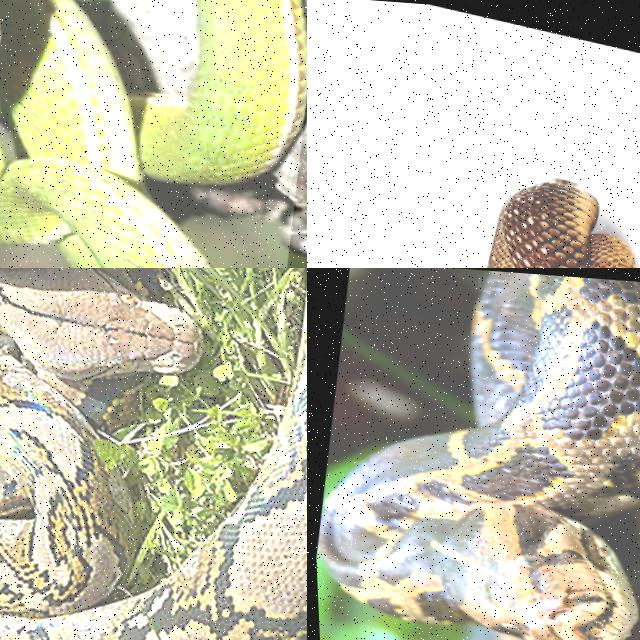Malayopython reticulatus: (0, 268, 306, 639)
Naja kaouthia: (488, 178, 634, 267)
Python bivittatus: (320, 271, 639, 639)
Trimeresurus: (0, 0, 306, 267)
snake: (320, 271, 639, 639), (0, 268, 306, 639), (0, 0, 306, 267), (488, 178, 634, 267)
